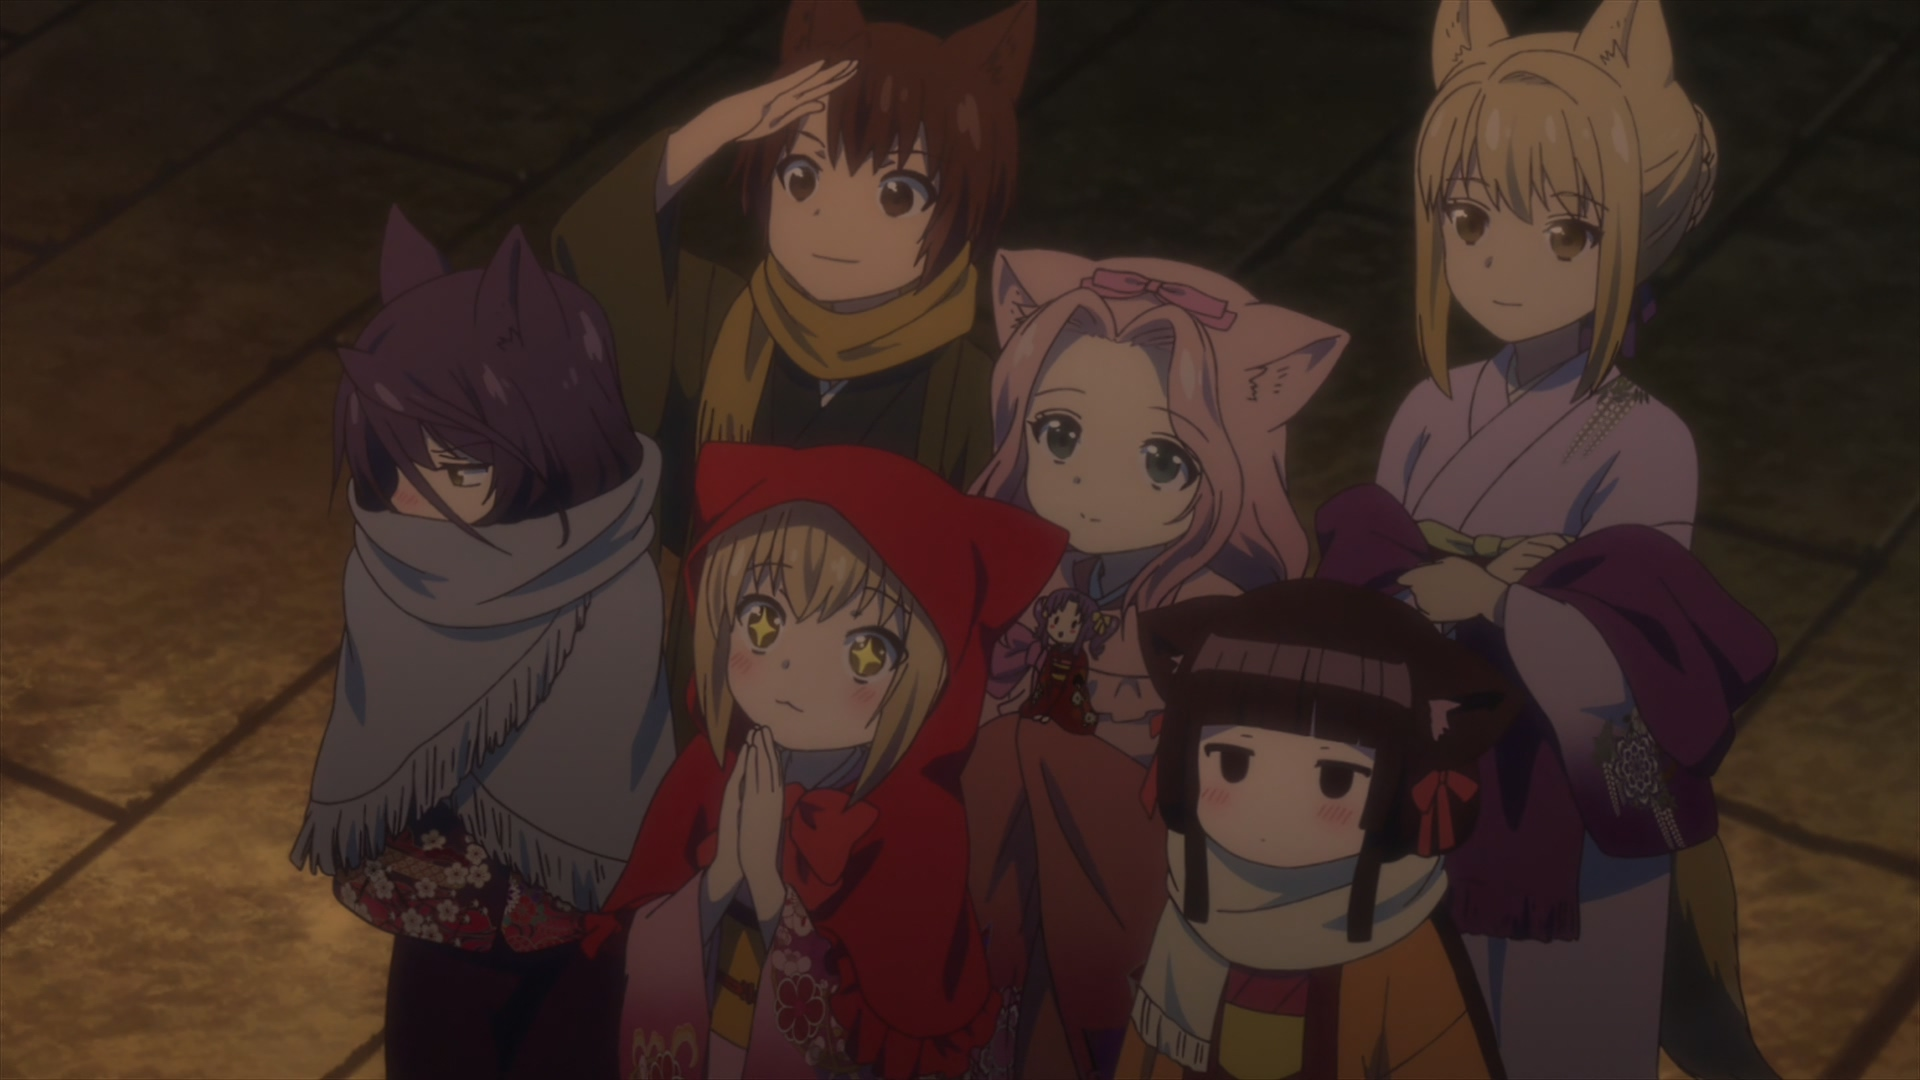枣: (553, 1, 1038, 491)
柚: (600, 440, 1071, 1080)
桐: (1315, 1, 1771, 1080)
樱: (1116, 580, 1490, 1080)
皋: (289, 204, 676, 1080)
莲: (957, 247, 1352, 760)
